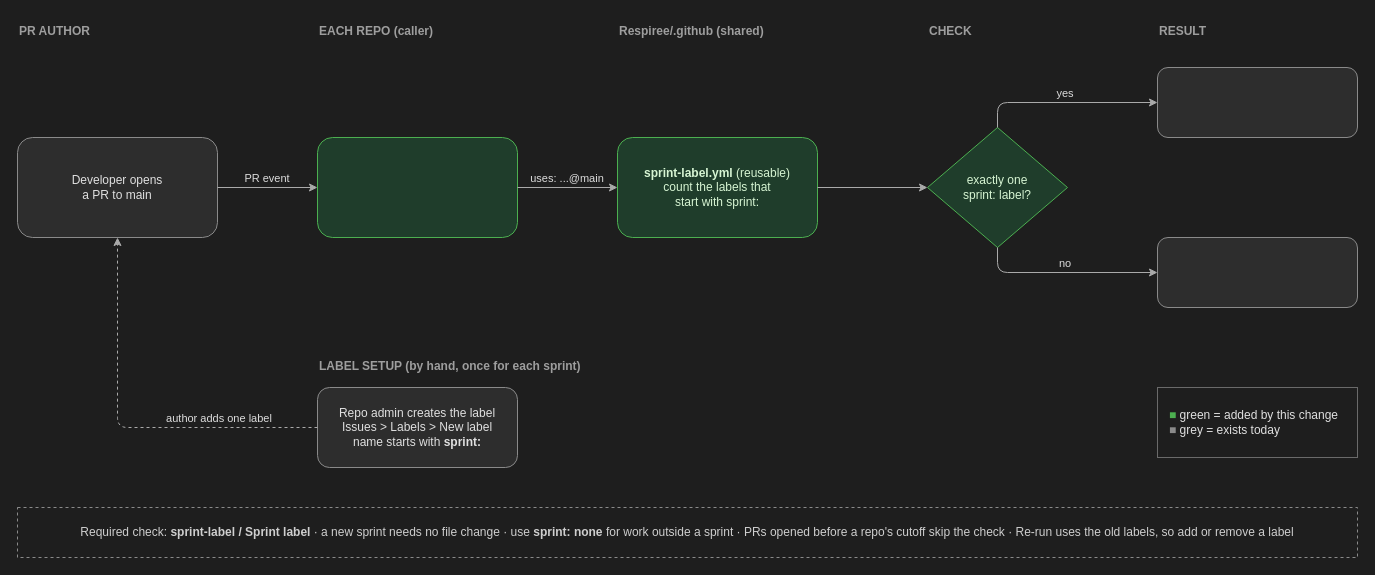
The diagram is 1375 pixels wide and 575 high, and some of its shapes have lost their labels. The centre of each missing label's shape, as x and y in pixels:
Check fails "Add exactly one sprint: label": (x=1257, y=272)
Check passes (merge still needs 1 approval): (x=1257, y=102)
sprint-label.yml runs on: opened, push, labeled, unlabeled newest run only: (x=417, y=187)
